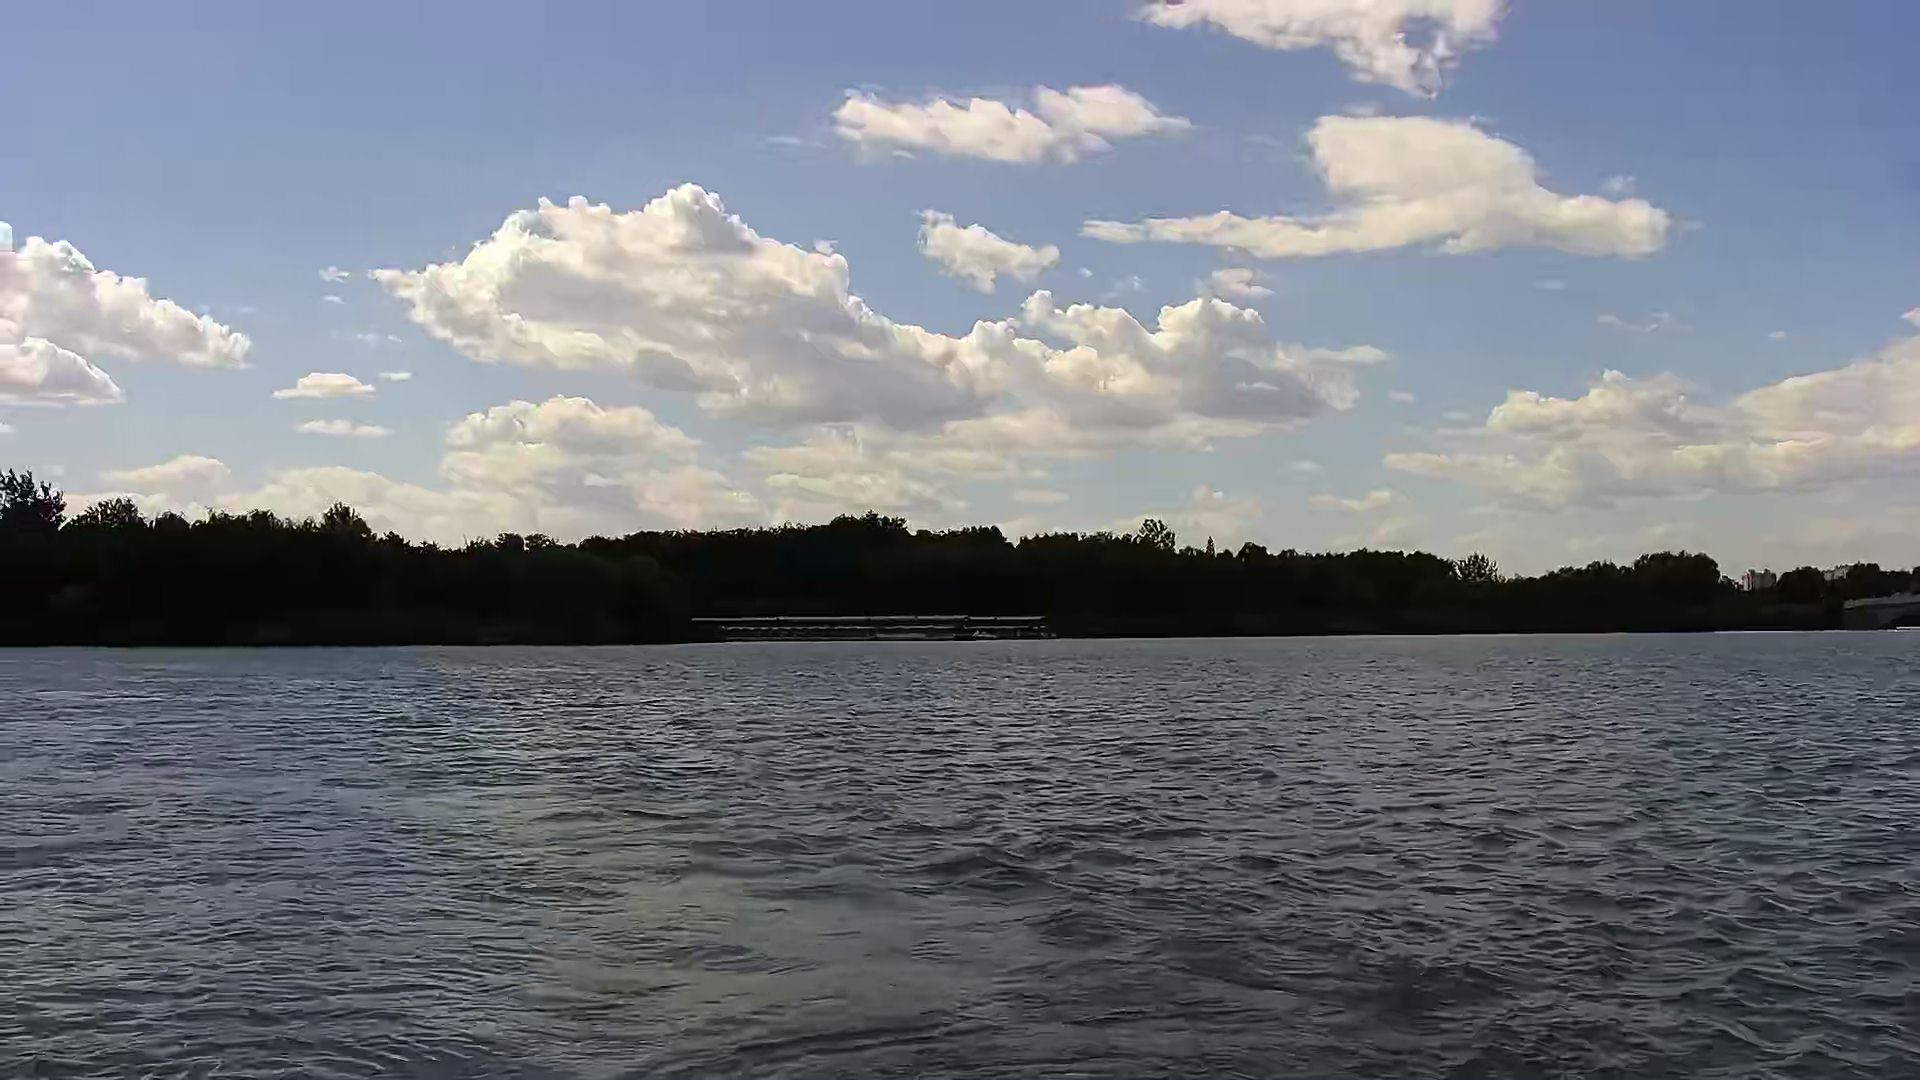harbor: (698, 611, 1052, 645)
